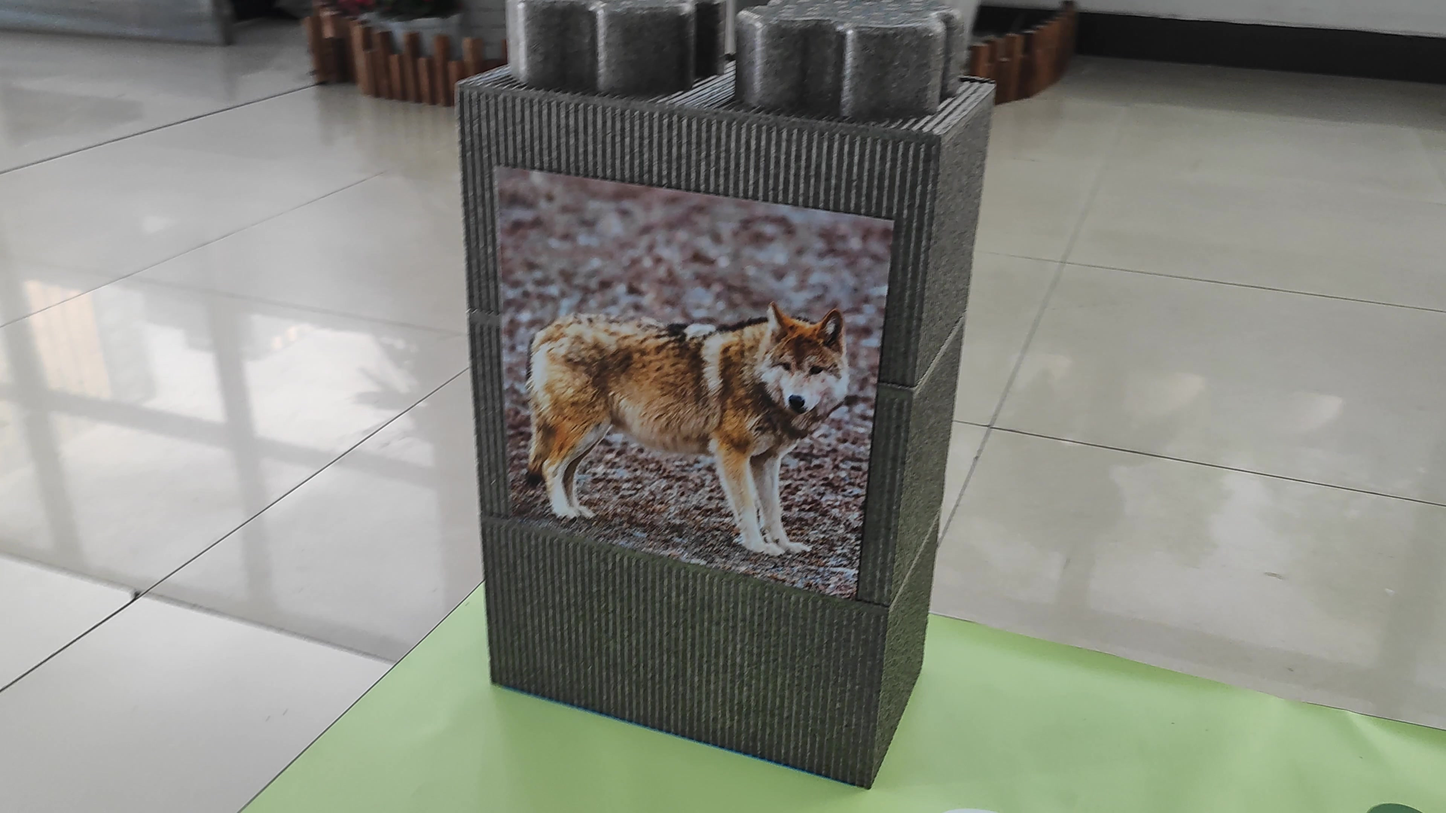wolf: (486, 265, 852, 565)
